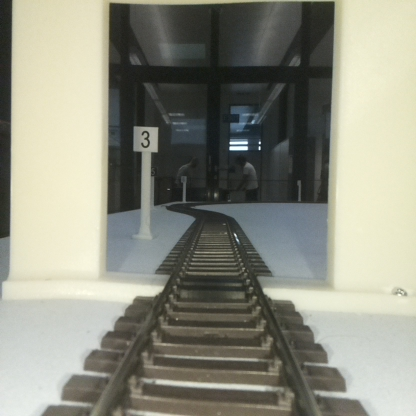white-info-3: (133, 126, 158, 238)
